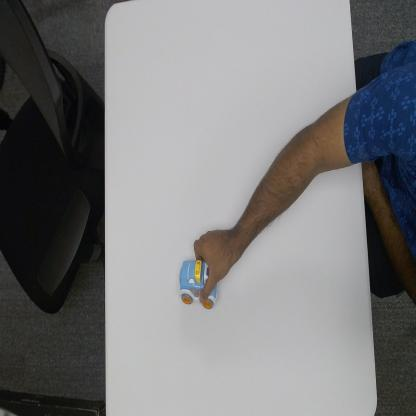Arm: (229, 97, 360, 248)
Car: (178, 257, 217, 310)
Hand: (194, 228, 240, 305)
